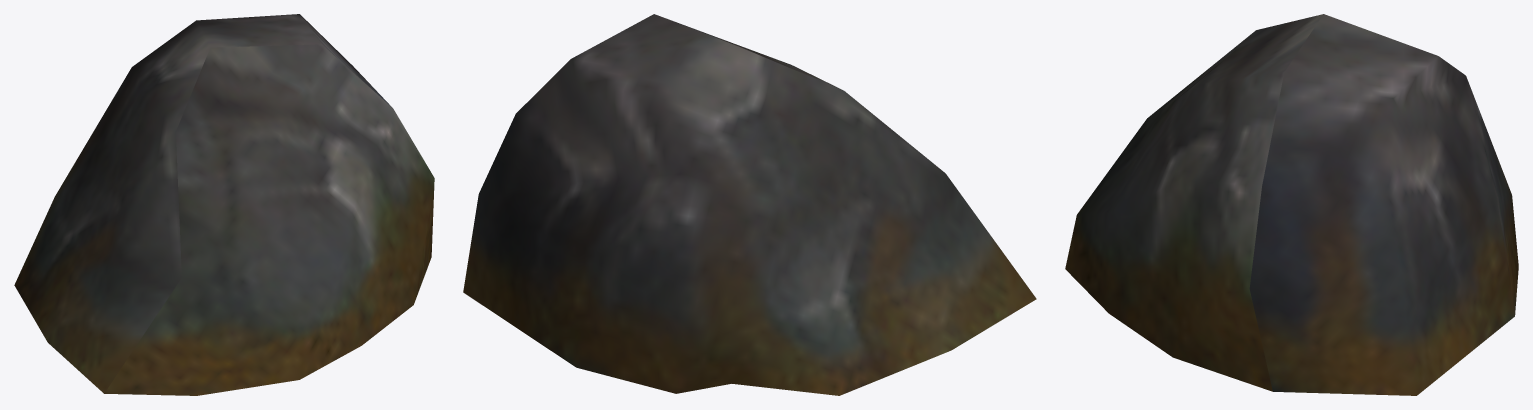
Rendered from common_yewai_stone06.FBX.
The picture shows the model from 3 angles, left to right: view 1: azimuth 30°, elevation 25°; view 2: azimuth 150°, elevation 25°; view 3: azimuth 270°, elevation 25°; orthographic projection. The views are drawn at different scales.
Visible parts, largest first — view 1: common_yewai_stone06; view 2: common_yewai_stone06; view 3: common_yewai_stone06.
Boxes of the visible parts, x1,y1,x2,y2 form: common_yewai_stone06: (14,14,434,395); common_yewai_stone06: (463,14,1036,395); common_yewai_stone06: (1065,14,1518,395).
Size of the model in its own units: 3.11 by 2.77 by 1.82.
